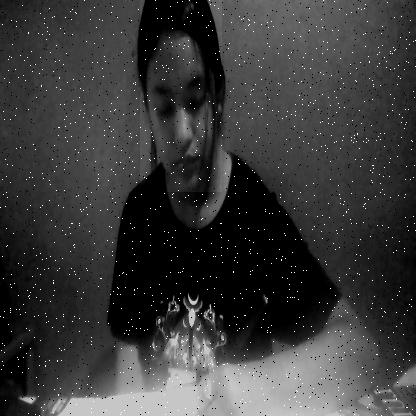Normal: (140, 0, 222, 192)
